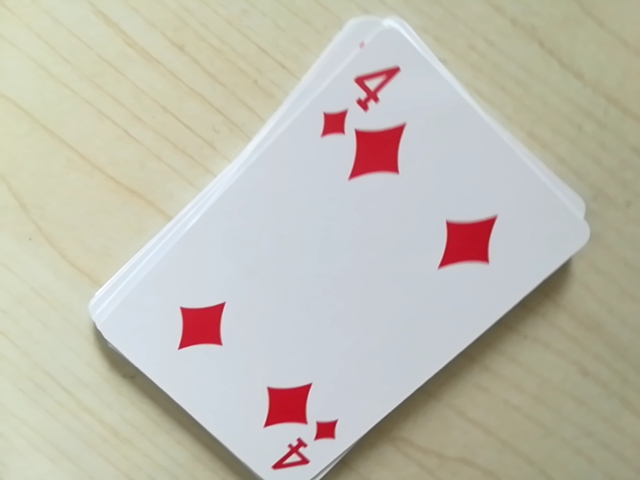fk 4: (313, 50, 403, 149), (262, 414, 343, 480)
